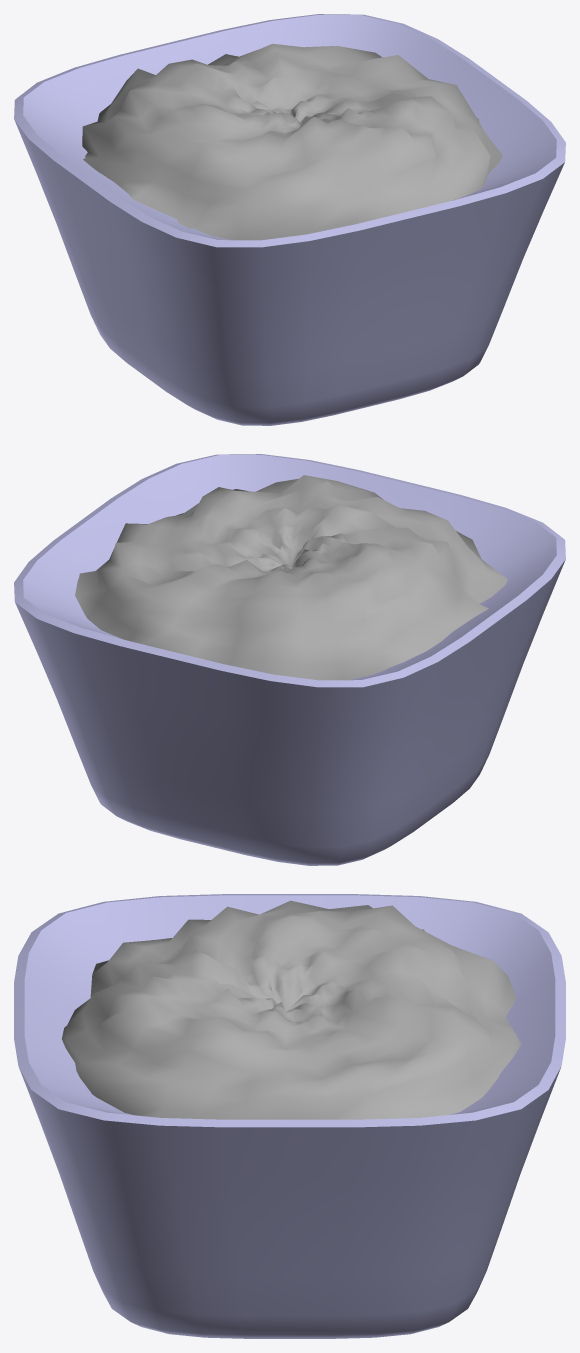
The model's file is olivie.fbx.
3 views of the same model, one above another, from view 1: azimuth 30°, elevation 25°; view 2: azimuth 150°, elevation 25°; view 3: azimuth 270°, elevation 25° (orthographic). The views are drawn at different scales.
Parts seen in each view (by area): view 1: olivie; view 2: olivie; view 3: olivie.
Part boxes in pixels (<box>): olivie: <box>14,14,565,425</box>; olivie: <box>14,454,565,865</box>; olivie: <box>14,894,565,1338</box>.
Bounding box in the file's own units: 1.23 × 0.7839 × 1.23.
